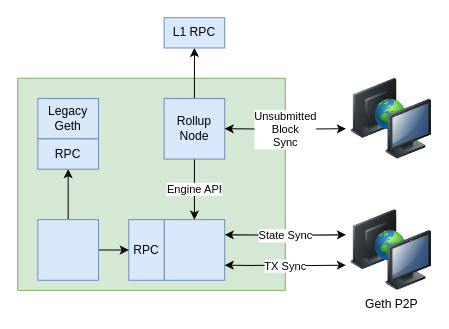
Image size: 449x329. Some labels were removed from this diagram. Here are the shapes that lost their labels. From the top down, the centre of each, then its label:
At point (390, 118): "Rollup P2P".
At point (67, 249): "Daisy Chain".
At point (194, 249): "Bedrock Geth".
